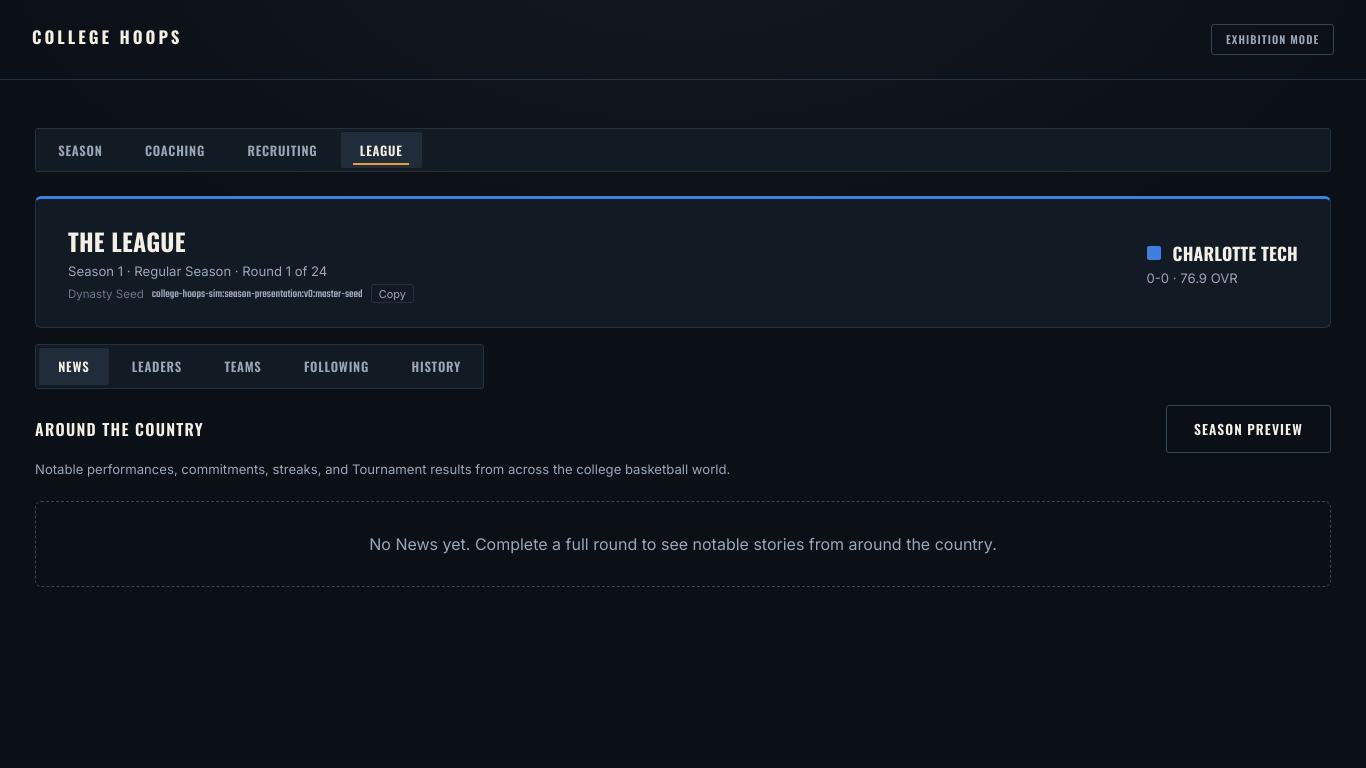
League — Following › shows a concise empty state when nothing is followed
Click the button "Following". click: (336, 367)
box: [285,348,388,385]
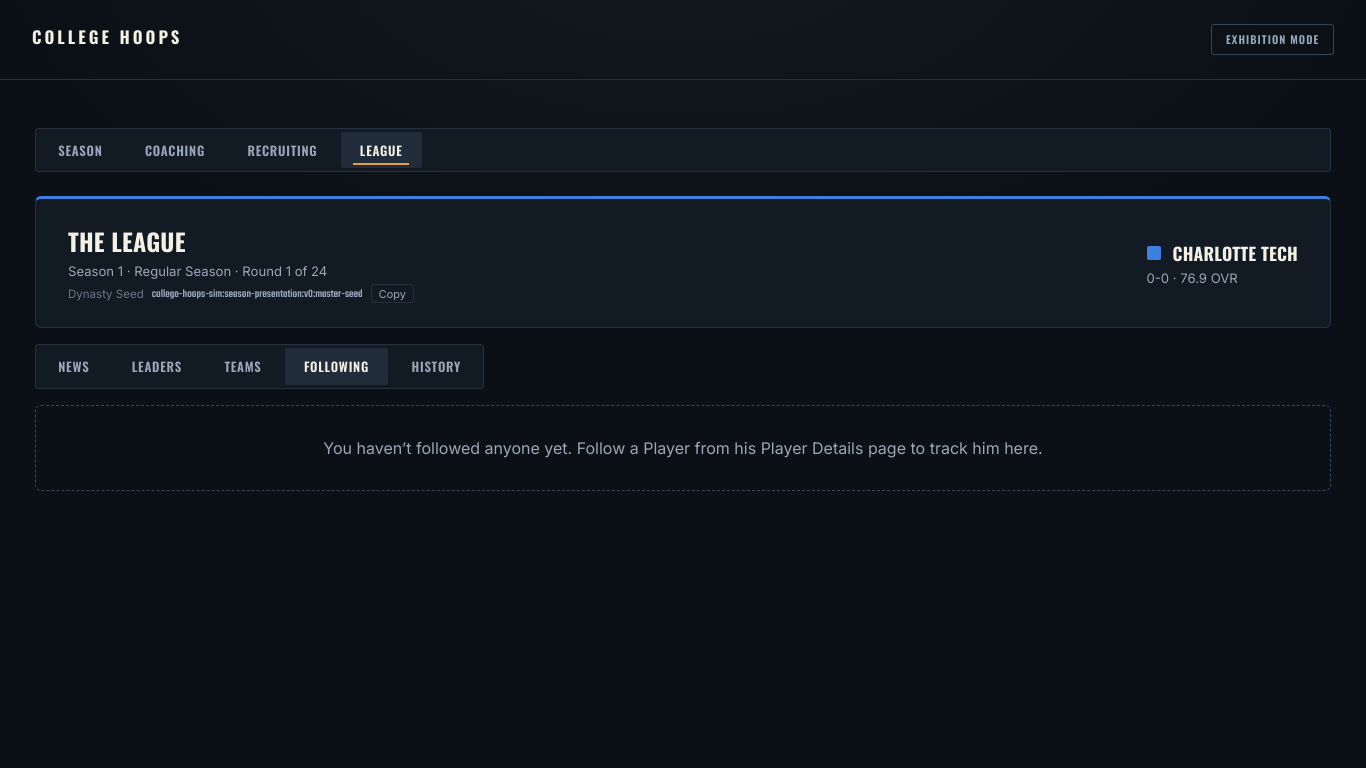
Expected: the text "haven.t followed anyone yet" is shown, [323,438,1043,458]
